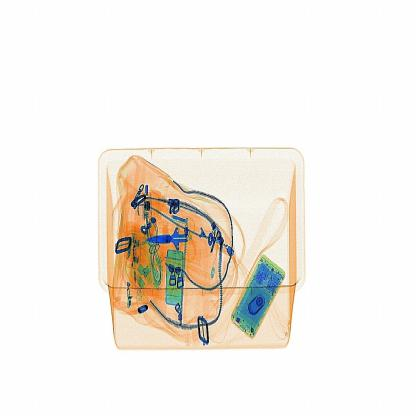gun: (143, 214, 211, 264)
